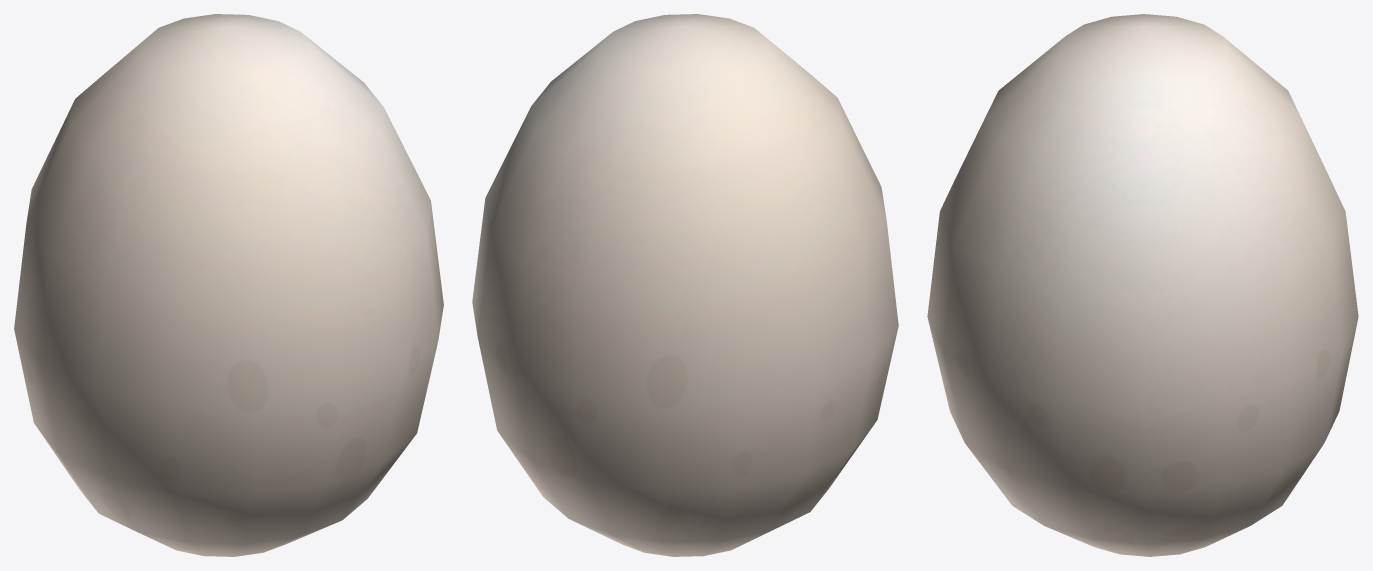
The model's file is EggSpawner.fbx.
The picture shows the model from 3 angles, left to right: view 1: azimuth 30°, elevation 25°; view 2: azimuth 150°, elevation 25°; view 3: azimuth 270°, elevation 25°; orthographic projection.
Parts seen in each view (by area): view 1: EggSpawner; view 2: EggSpawner; view 3: EggSpawner.
Part boxes in pixels (box(x1,y1,x2,y2)): EggSpawner: box(14, 14, 443, 556); EggSpawner: box(472, 14, 898, 556); EggSpawner: box(927, 14, 1358, 556).
Bounding box in the file's own units: 0.6871 × 0.8983 × 0.6871.
Materials: 1 (1 with a texture image).
